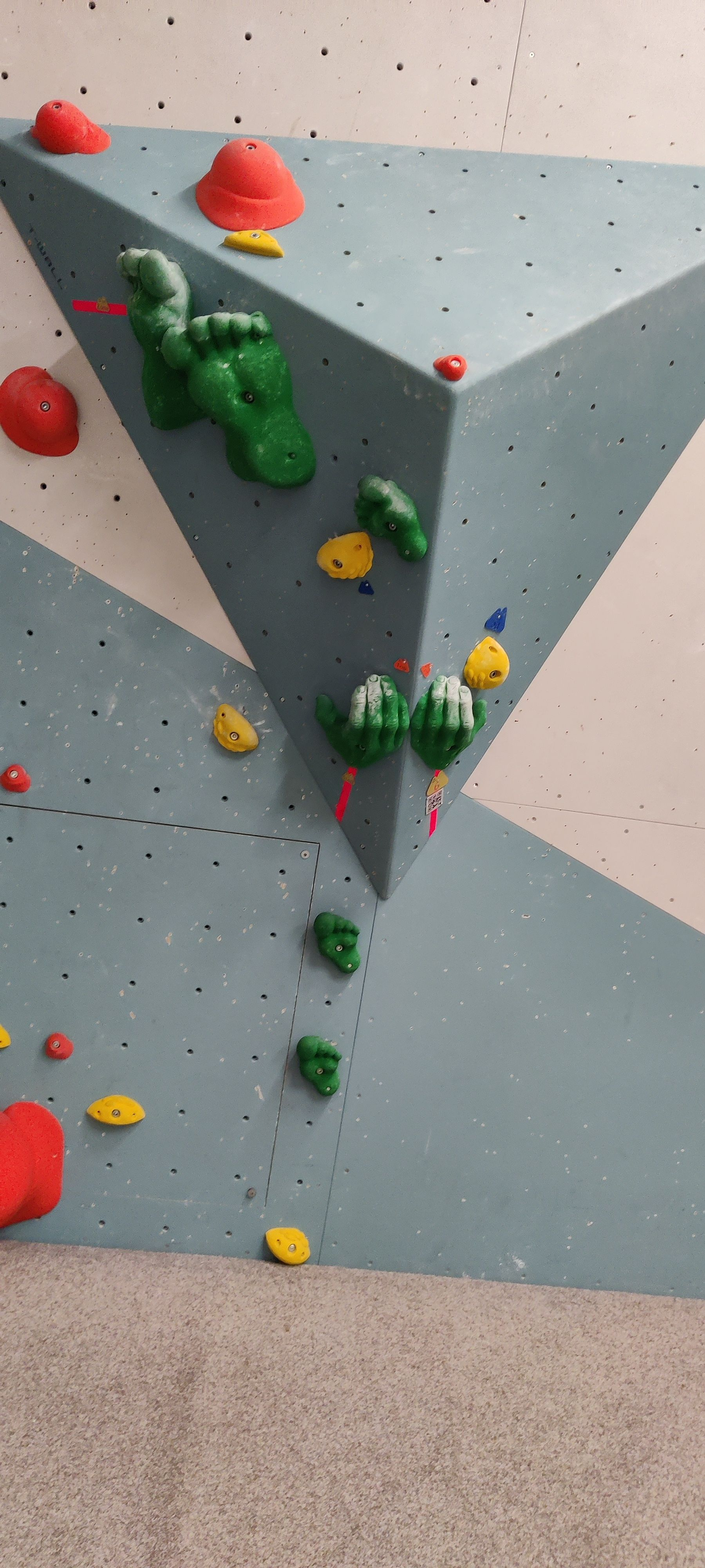hold: (162, 312, 316, 488), (117, 247, 197, 429), (196, 140, 301, 230), (316, 676, 406, 766), (2, 1102, 63, 1222), (410, 676, 486, 770), (2, 367, 75, 455), (357, 477, 426, 555), (32, 100, 105, 154), (316, 911, 357, 972), (298, 1036, 340, 1094), (318, 531, 369, 575), (213, 705, 257, 751), (468, 637, 506, 683), (222, 229, 284, 257), (90, 1094, 141, 1124), (266, 1227, 308, 1261), (2, 764, 27, 791), (436, 358, 465, 379), (46, 1034, 73, 1056), (2, 1029, 7, 1045)
volume: (0, 117, 702, 908)
